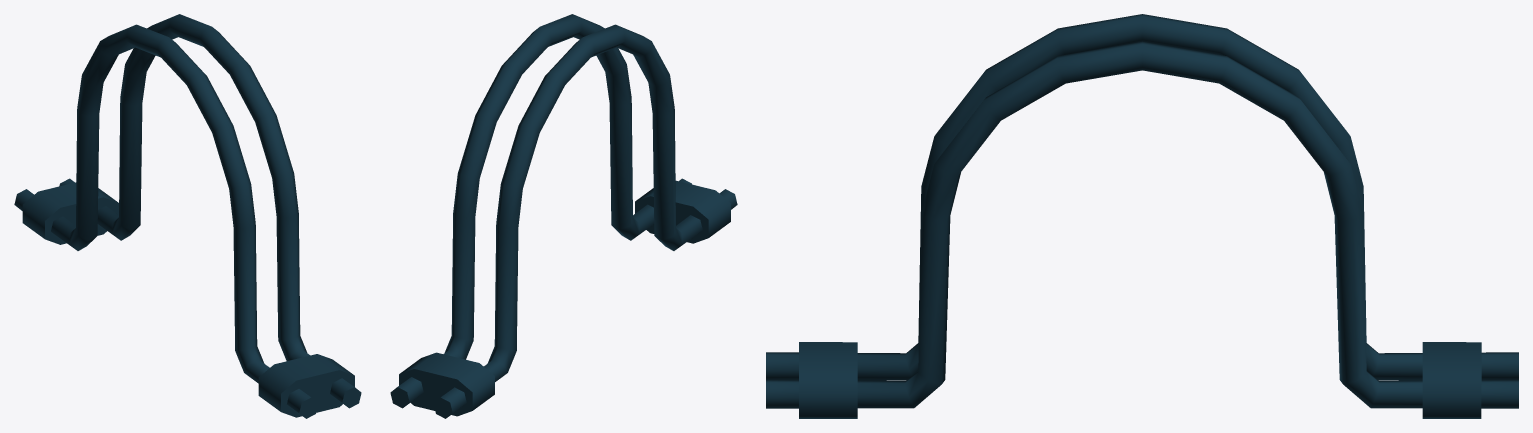
Rendered from PipeHolder_Ring02_Small.fbx.
3 views of the same model, side by side, from view 1: azimuth 30°, elevation 25°; view 2: azimuth 150°, elevation 25°; view 3: azimuth 270°, elevation 25° (orthographic). The views are drawn at different scales.
Parts seen in each view (by area): view 1: PipeHolder_Ring02_Small.001; view 2: PipeHolder_Ring02_Small.001; view 3: PipeHolder_Ring02_Small.001.
Boxes of the visible parts, bbox=[...] form: PipeHolder_Ring02_Small.001: bbox=[14, 14, 361, 418]; PipeHolder_Ring02_Small.001: bbox=[390, 14, 737, 418]; PipeHolder_Ring02_Small.001: bbox=[766, 14, 1518, 418].
Bounding box in the file's own units: 0.0291 × 0.1074 × 0.1948.
